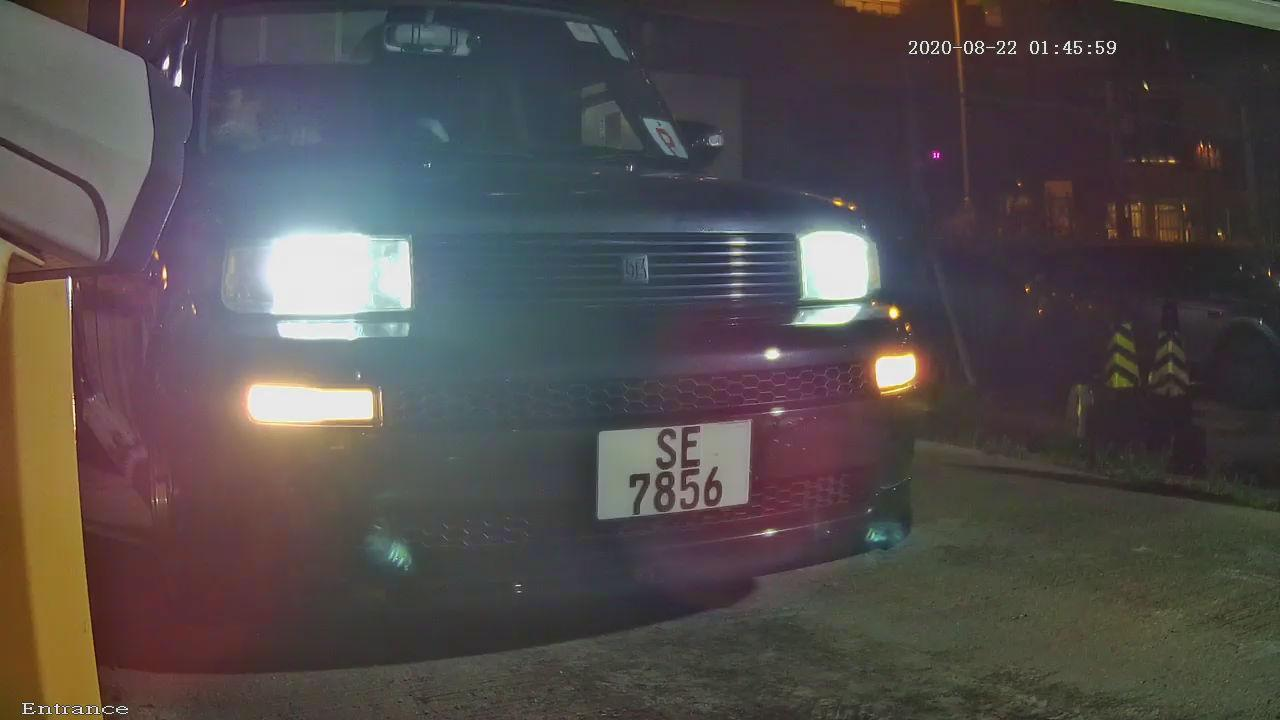Car: (6, 4, 1018, 666)
License Plate: (566, 405, 761, 531)
